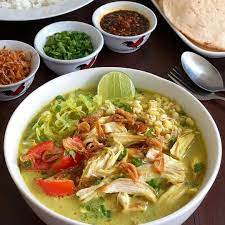soto: (13, 61, 223, 225)
